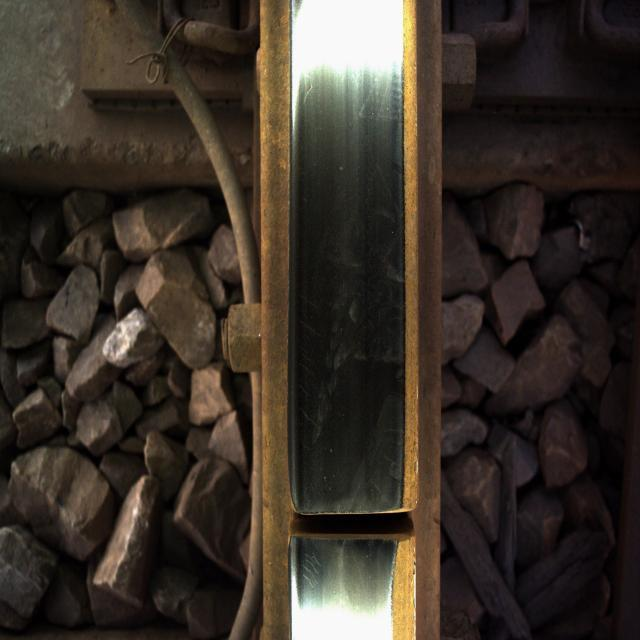spalling: (264, 452, 435, 584)
